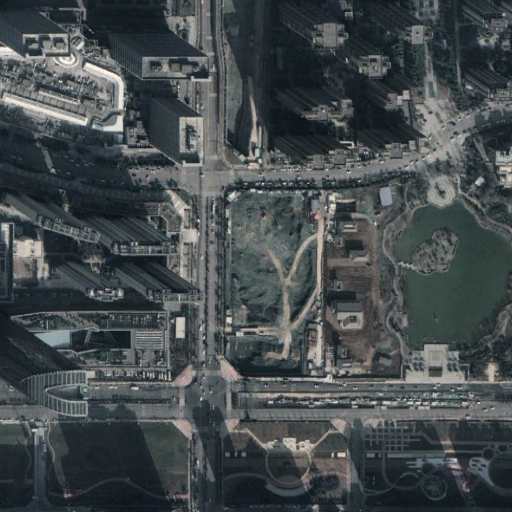cw: (224, 181, 324, 377)
